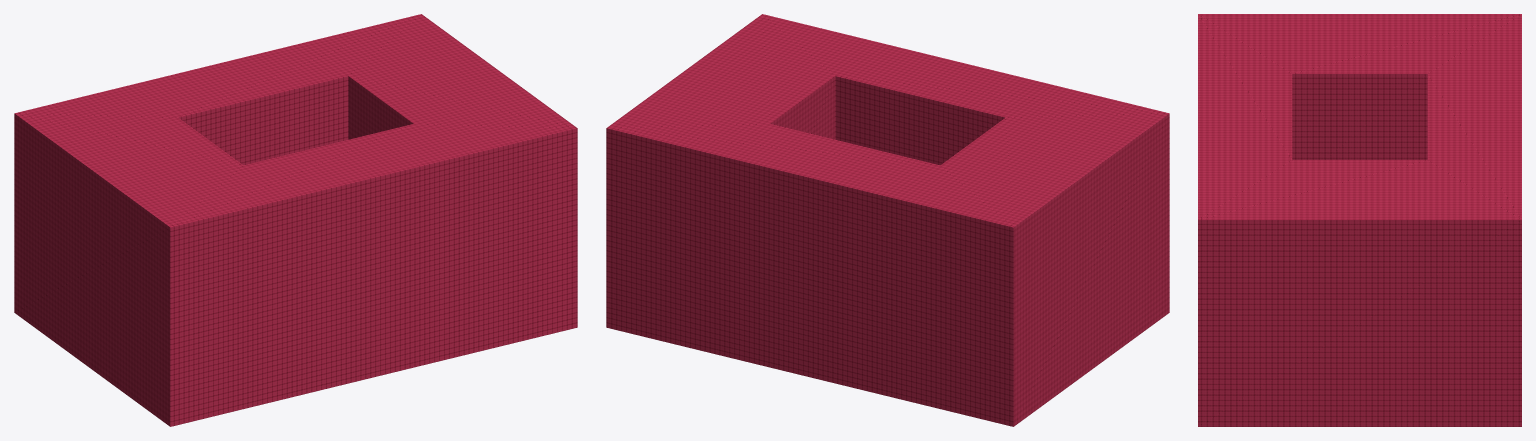
File: BLOQUE_VIVIENDAS.fbx
3 renders of one model, left to right at view 1: azimuth 30°, elevation 25°; view 2: azimuth 150°, elevation 25°; view 3: azimuth 270°, elevation 25°, orthographic. The views are drawn at different scales.
Visible parts, largest first — view 1: BLOQUE_VIVIENDAS; view 2: BLOQUE_VIVIENDAS; view 3: BLOQUE_VIVIENDAS.
Part boxes in pixels (x1=…): BLOQUE_VIVIENDAS: x1=14, y1=14, x2=577, y2=426; BLOQUE_VIVIENDAS: x1=606, y1=14, x2=1169, y2=426; BLOQUE_VIVIENDAS: x1=1198, y1=14, x2=1521, y2=426.
Bounding box in the file's own units: 82.87 × 38.79 × 55.
